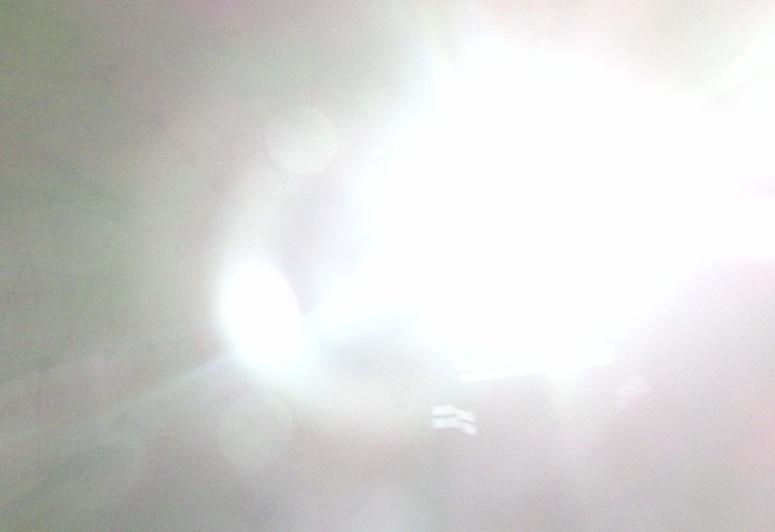person: (416, 191, 685, 532)
